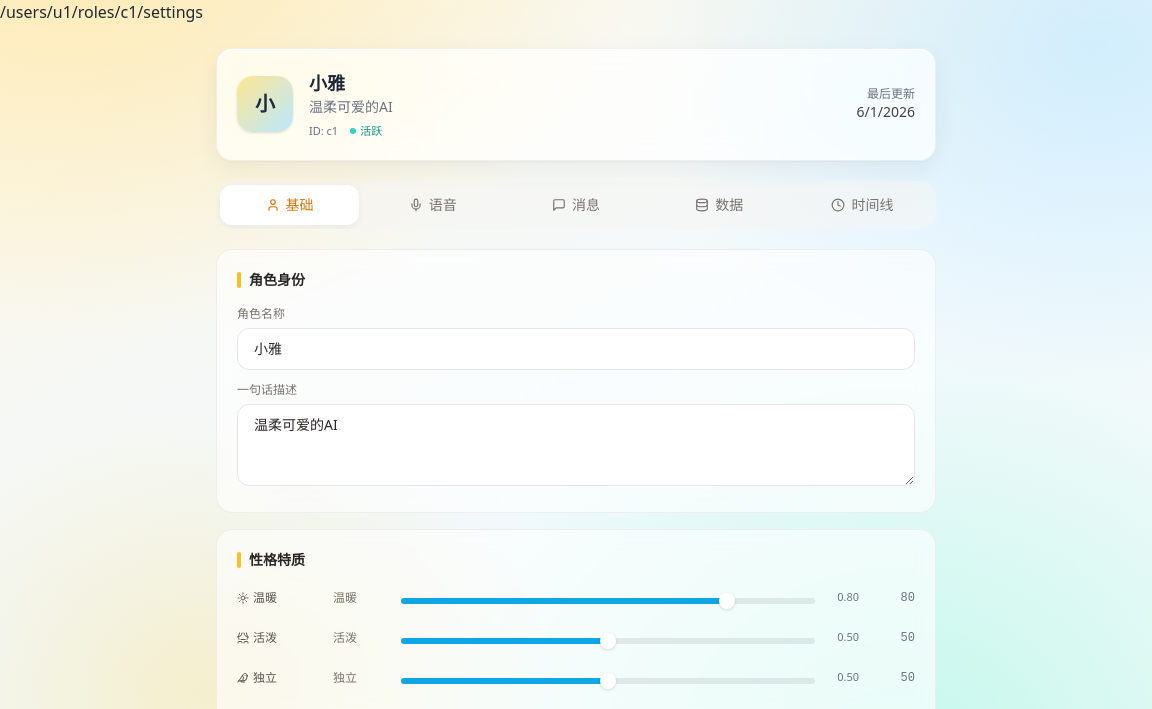
Scenario: RoleSettings › click tab switches active tab content
Check: the field showing "小雅" is shown, box [237,328,915,370]
What coordinates should you click on to do the following:
click the button "消息"
I would click on:
 (576, 204)
Its box is [506,184,646,224].
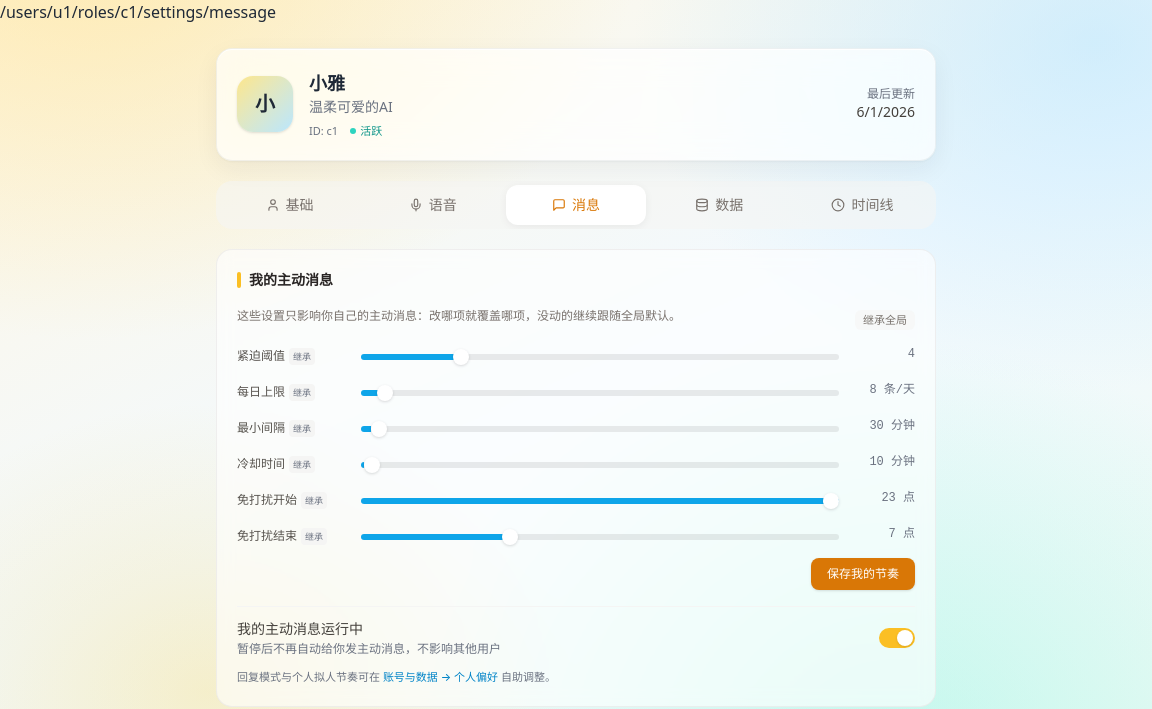
Check: the element with test id "user-proactive-scope" reads "继承全局", box [863,312,907,326]
Check: the button "保存我的节奏" is shown, box [811,558,915,590]
Note: 点击「数据」tab
What coordinates should you click on to do the following:
click the button "数据"
I would click on:
 (719, 204)
Its box is [650,184,789,224].
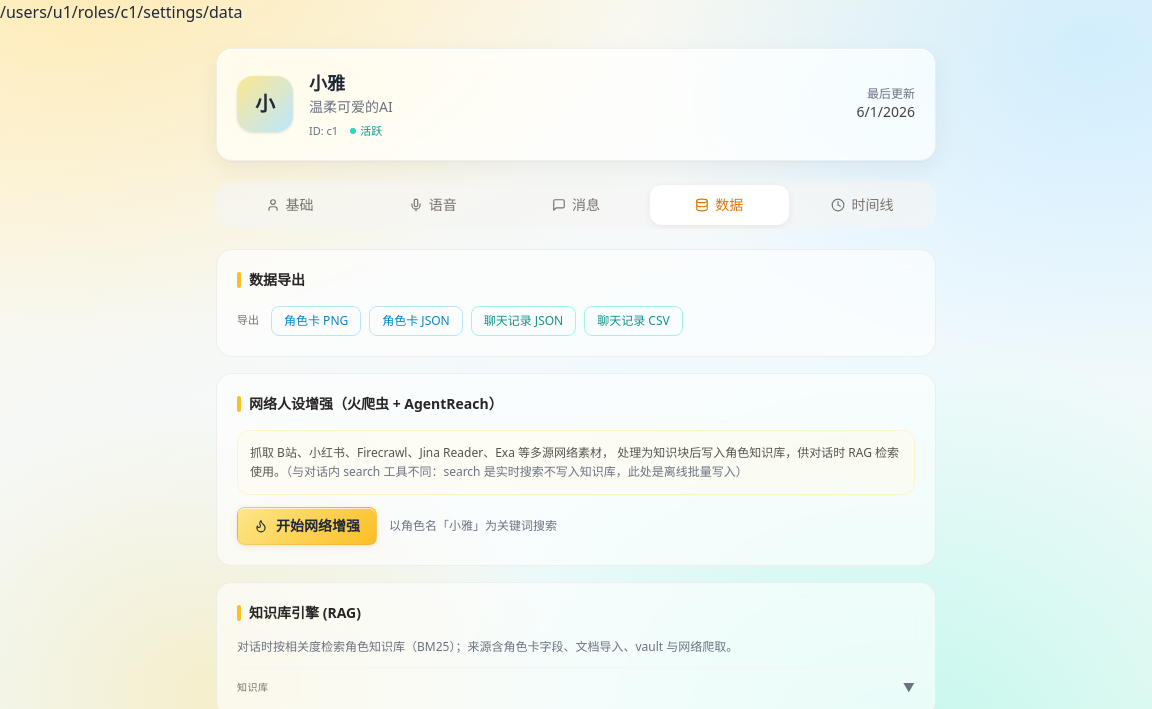
Check: the heading "数据导出" is shown, box [237,270,305,288]
